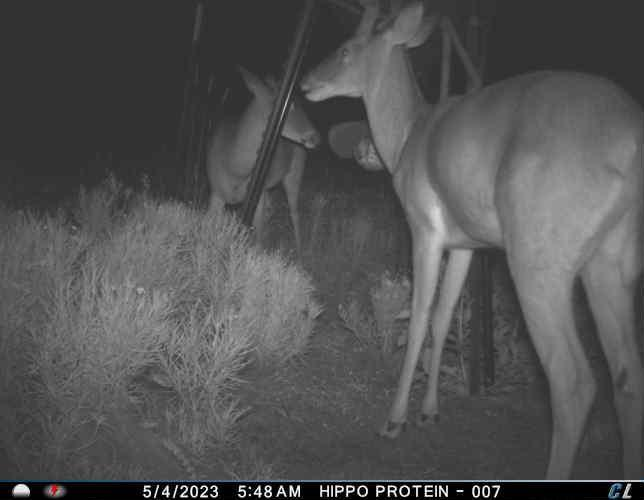Deer: (298, 2, 644, 482), (202, 52, 321, 249)
